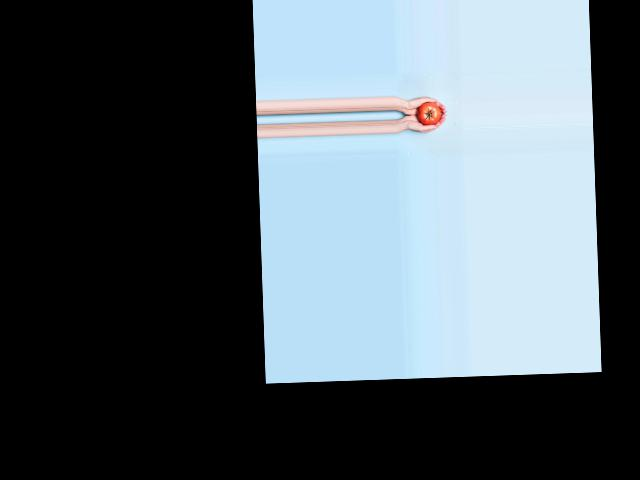tomato: (416, 102, 441, 126)
